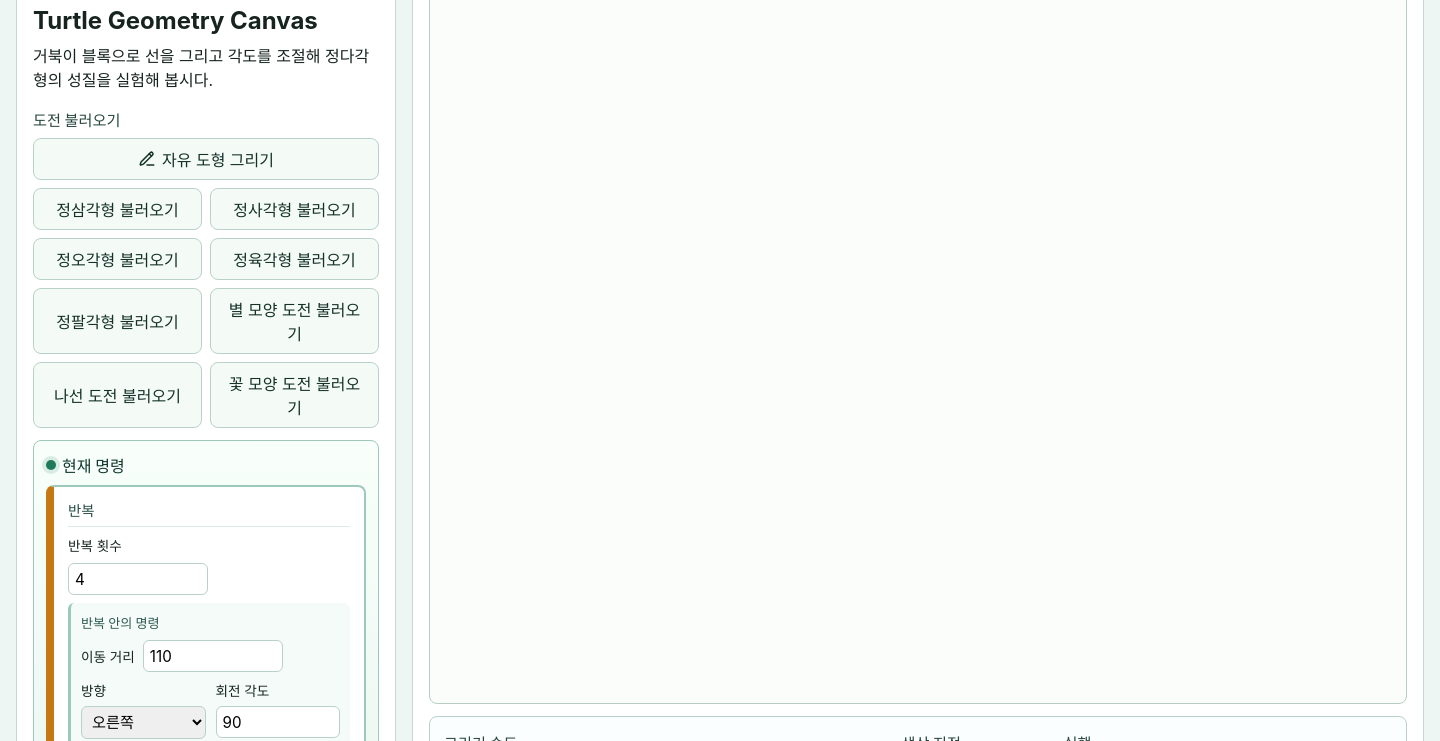
Test: App › allows editing repeat polygon fields and updates drawing only after rerun
The image size is (1440, 741).
Click the button "정사각형 불러오기" at (294, 209), box [210, 188, 379, 230]
(page scrolled)
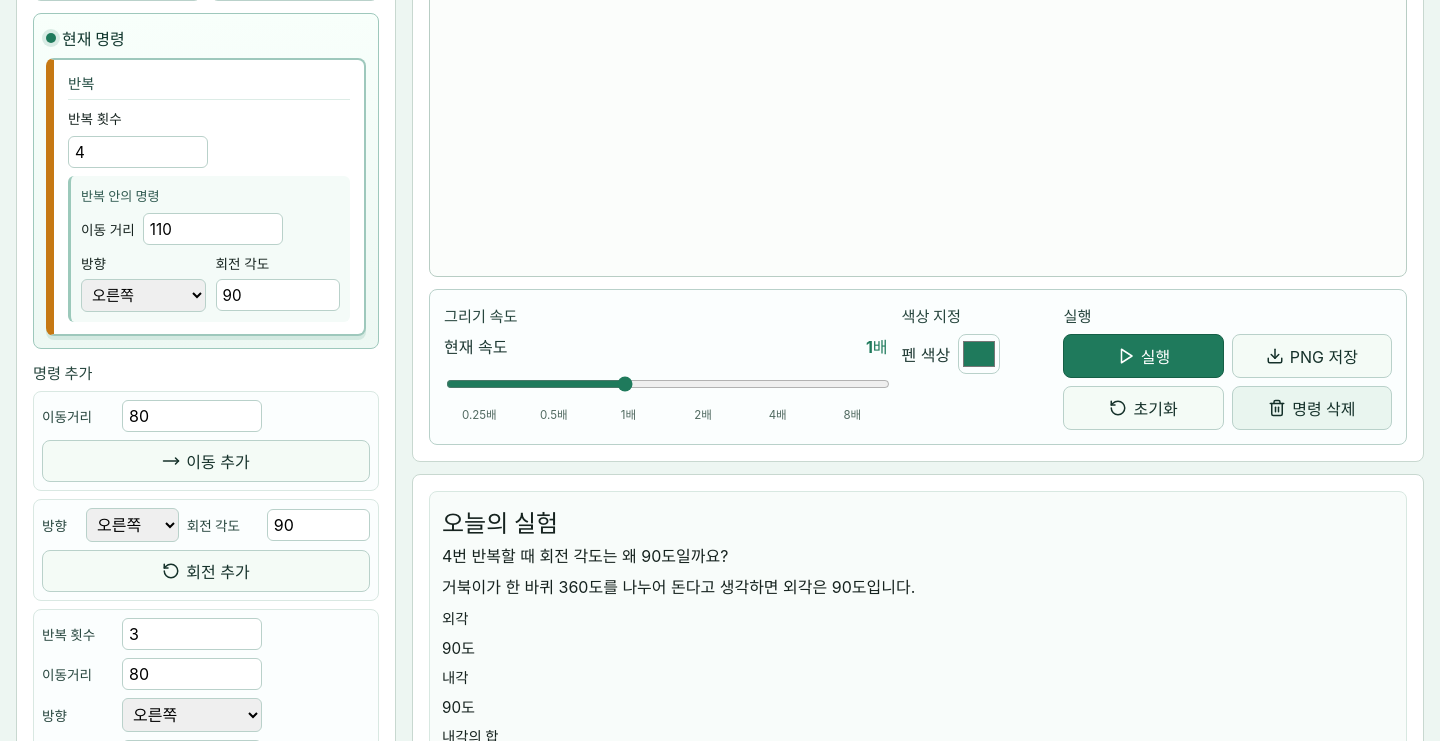
Click the button "실행" at (1144, 356), box [1063, 334, 1224, 378]
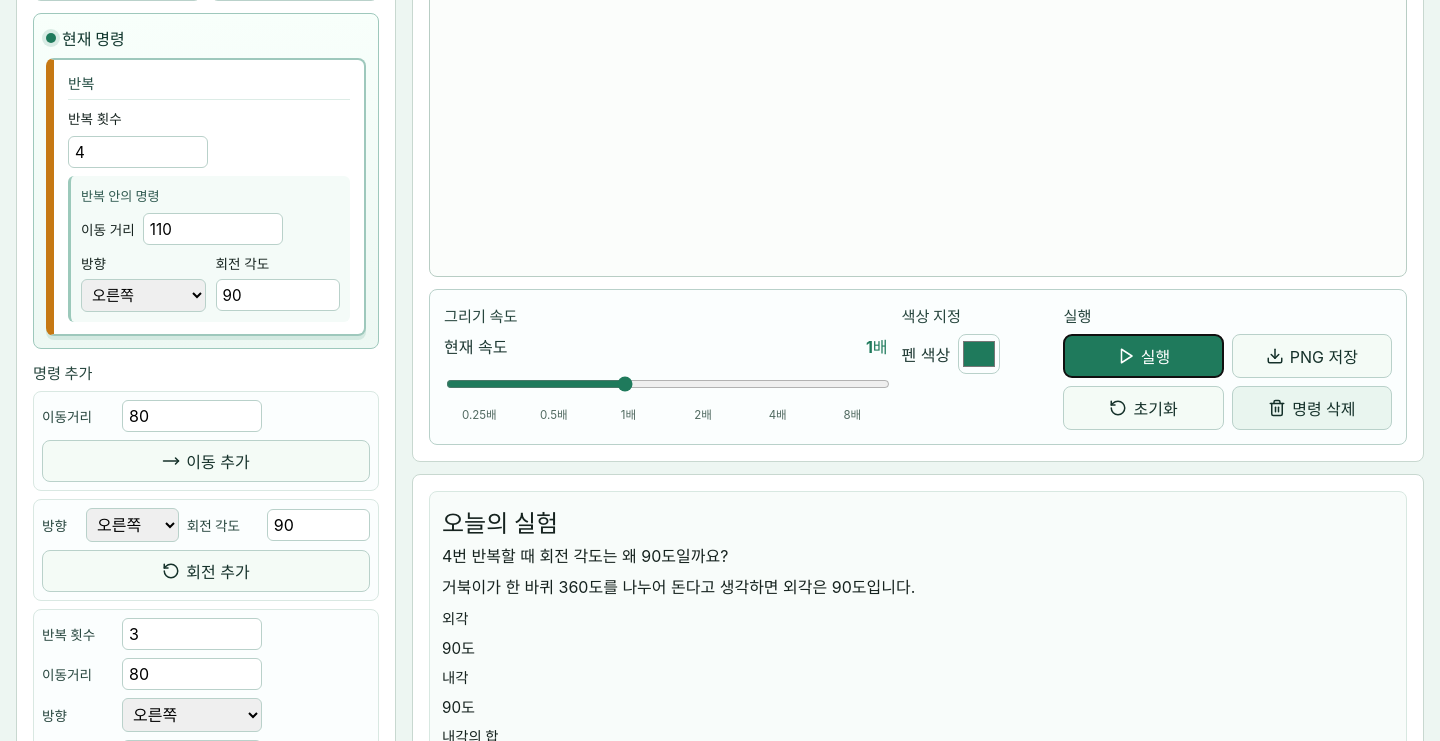
Replace the text in the number field labelled "반복 횟수" below "현재 명령" with "5" at (138, 152), box [68, 136, 208, 168]
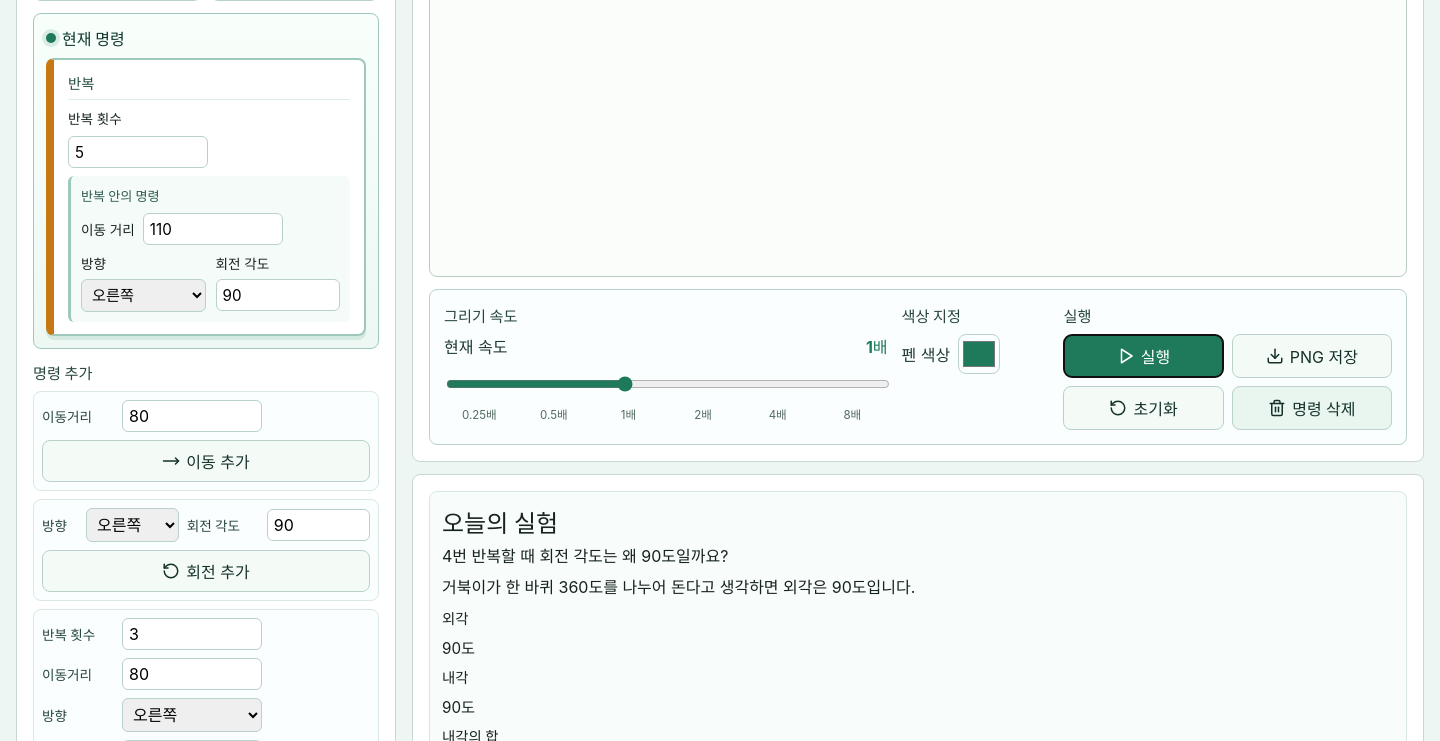
Click the button "실행" at (1144, 356), box [1063, 334, 1224, 378]
(page scrolled)
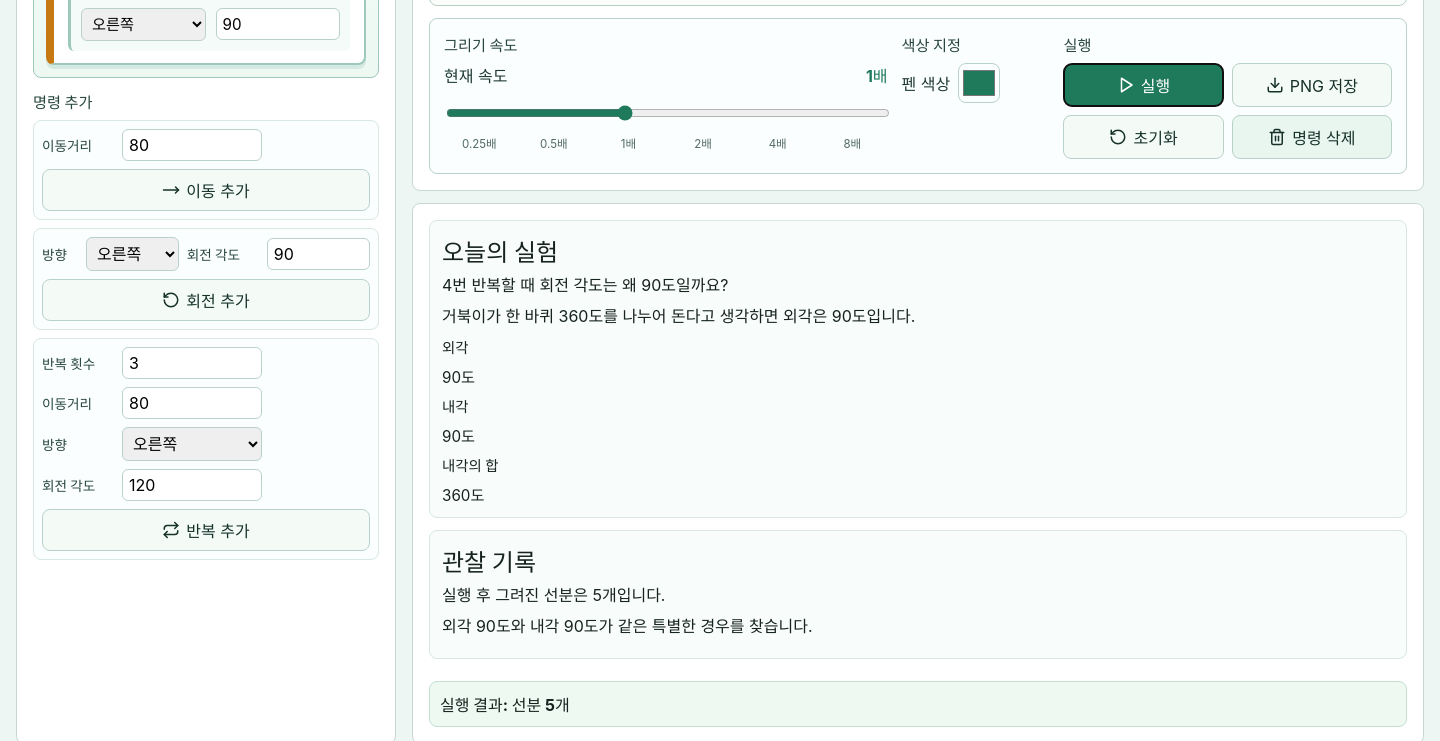
Expected: the message reads "실행 결과: 선분 5개", [429, 681, 1407, 727]
